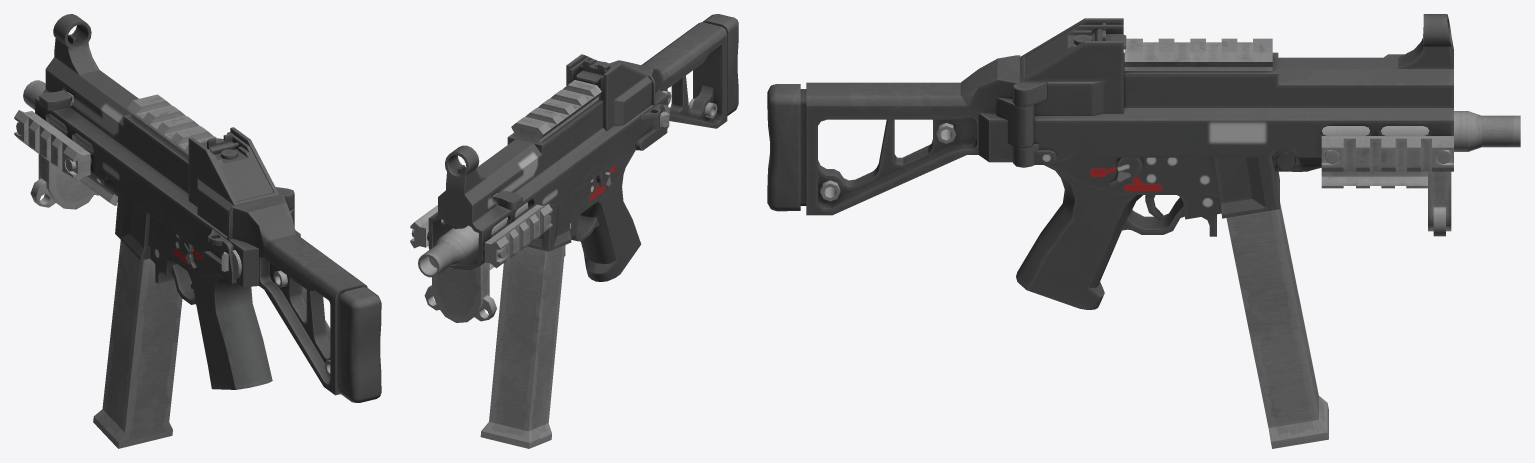
The model's file is IG_Gun_UAK45.fbx.
3 views of the same model, side by side, from view 1: azimuth 30°, elevation 25°; view 2: azimuth 150°, elevation 25°; view 3: azimuth 270°, elevation 25° (orthographic). The views are drawn at different scales.
Visible parts, largest first — view 1: WPN_UMP45, HideIf_Stock; view 2: WPN_UMP45, HideIf_Stock; view 3: WPN_UMP45, HideIf_Stock.
Boxes of the visible parts, box(x1,y1,x2,y2) form: WPN_UMP45: box(14, 14, 279, 448); HideIf_Stock: box(201, 187, 381, 402); WPN_UMP45: box(410, 54, 653, 448); HideIf_Stock: box(609, 14, 738, 150); WPN_UMP45: box(1016, 14, 1520, 448); HideIf_Stock: box(767, 55, 1056, 215).
Bounding box in the file's own units: 0.1476 × 0.5202 × 0.8488.
